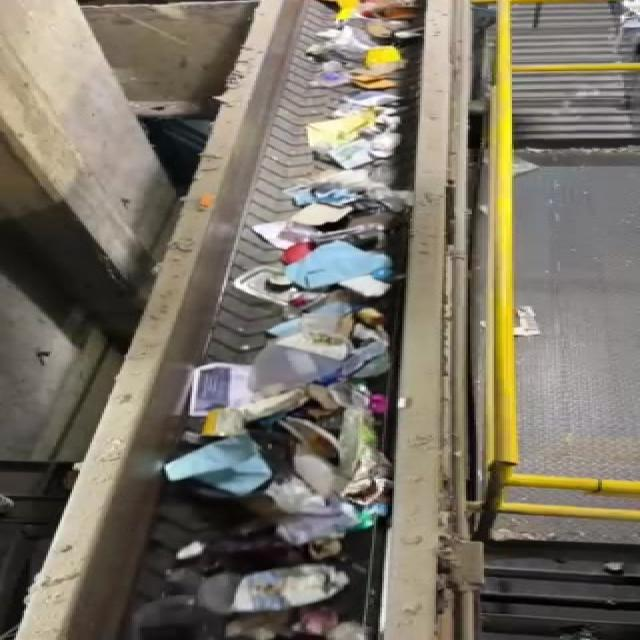paper: (322, 398, 414, 495), (142, 440, 273, 508), (210, 570, 367, 611), (167, 356, 241, 416)
pp: (343, 302, 399, 339)
